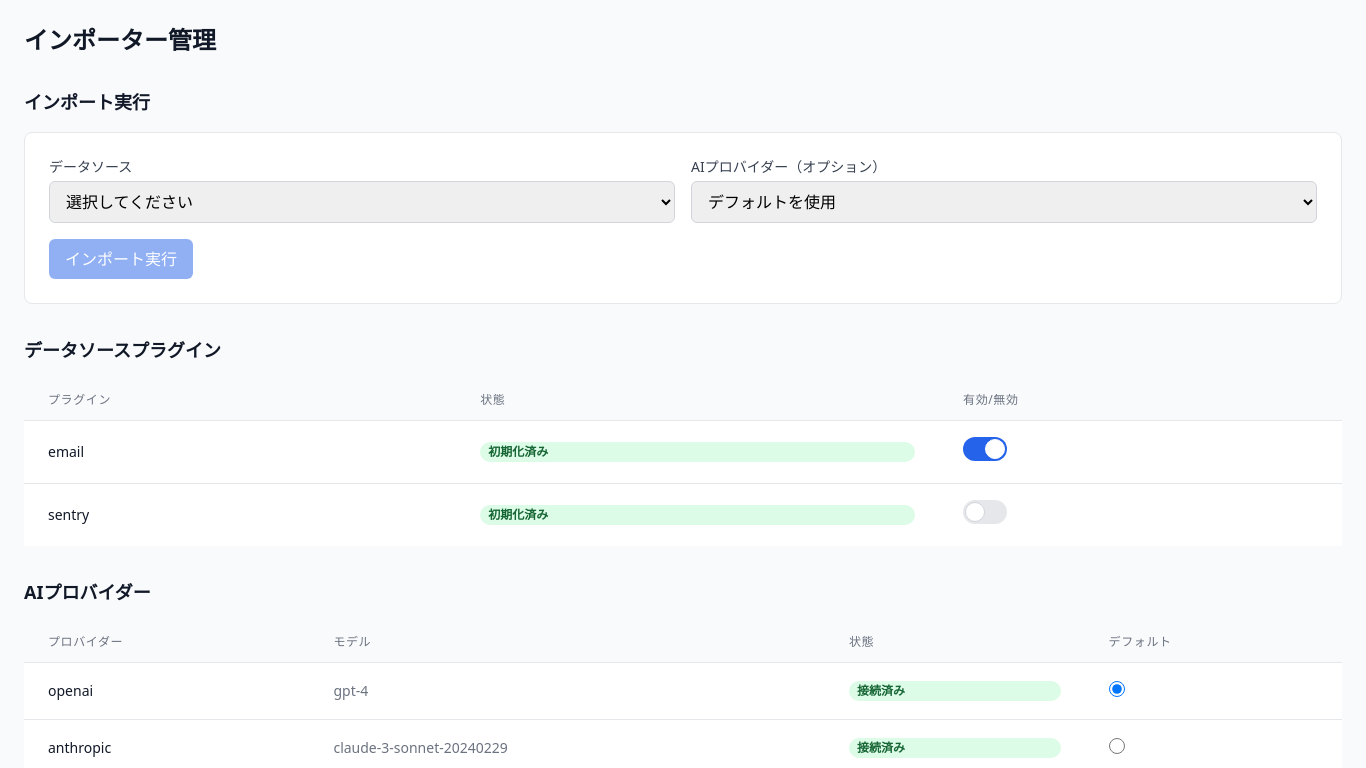
Test case: Importer Integration Tests - Critical Paths › Import Execution Flow › executes import with plugin selection and displays results
Expected: the heading "インポート実行" is shown, [24,90,150,114]
プラグインを選択
Select "email" in the dropdown labelled "データソース" at (362, 202), box [49,181,675,223]
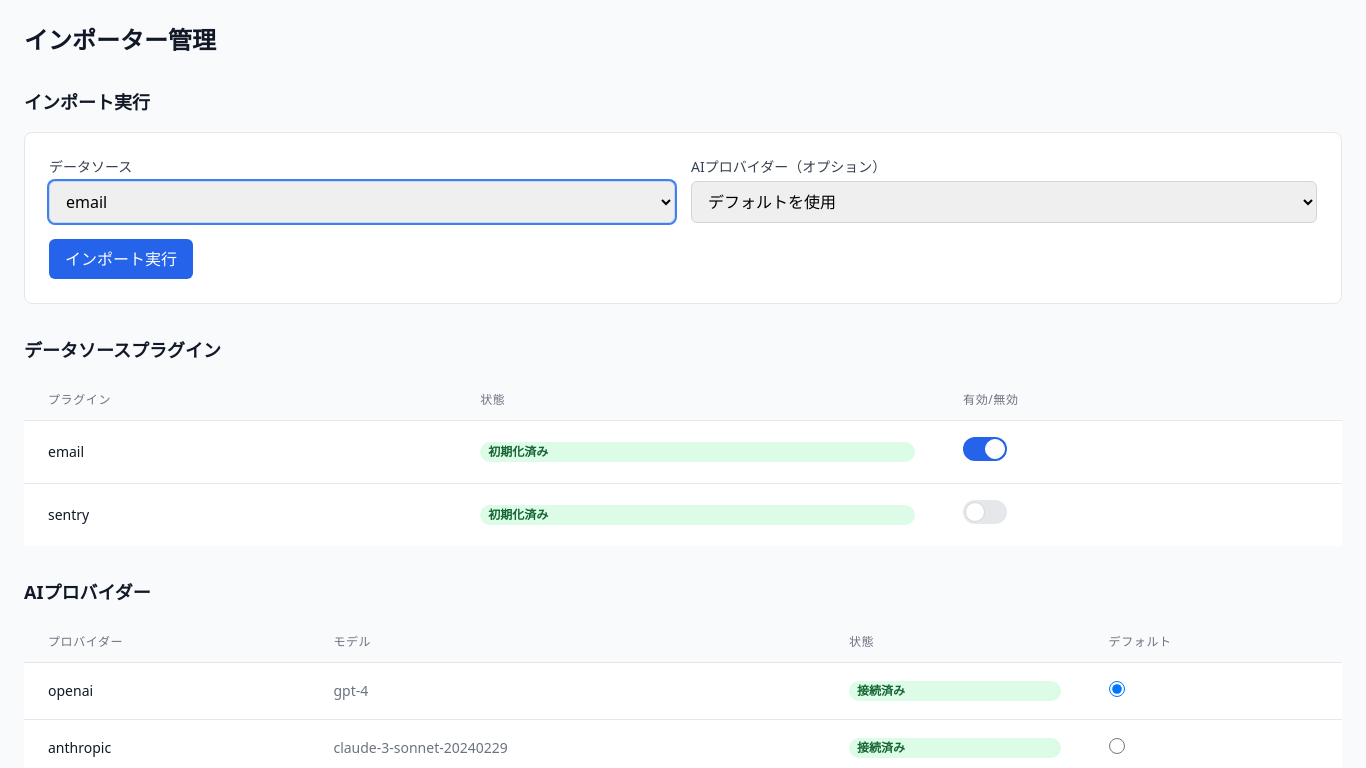
Expected: the button "インポート実行" is enabled
 インポート実行
Click the button "インポート実行" at (121, 259), box [49,239,193,279]
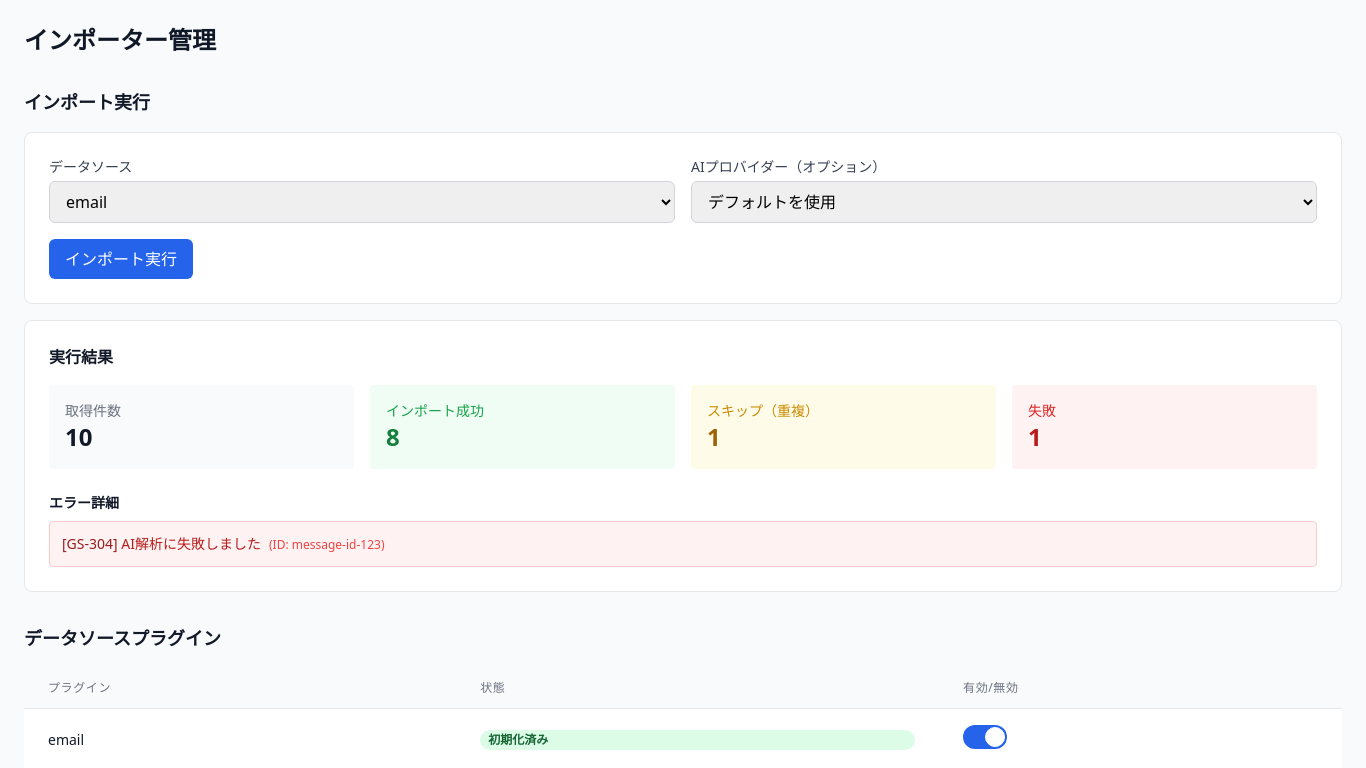
Expected: the heading "実行結果" is shown, [49,346,113,368]
Expected: the text "取得件数" is shown, [65,401,121,420]
Expected: the text "10" is shown, [65,420,92,453]
